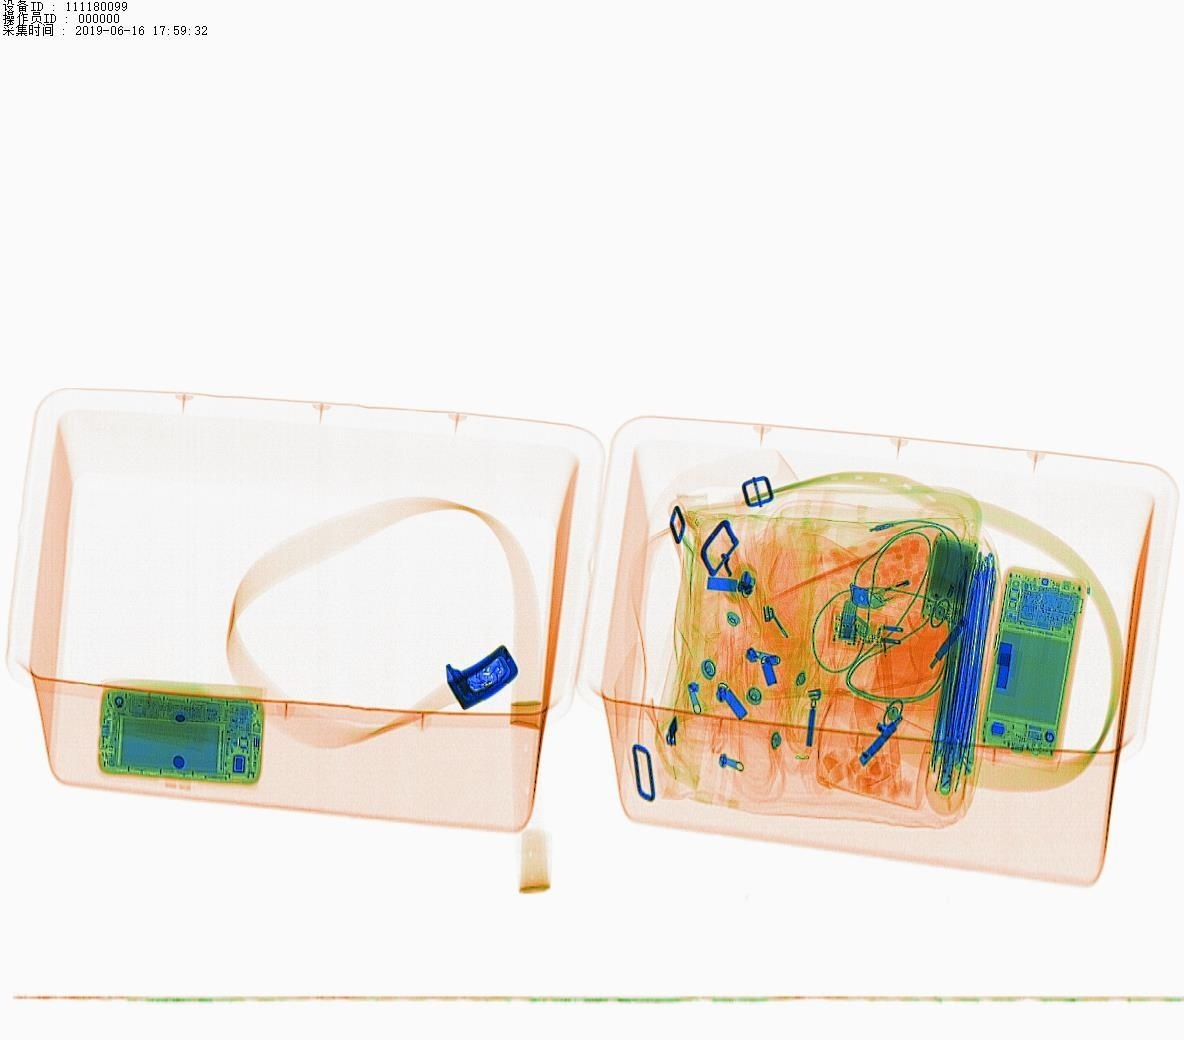NonmetallicFire: (851, 570, 952, 616)
